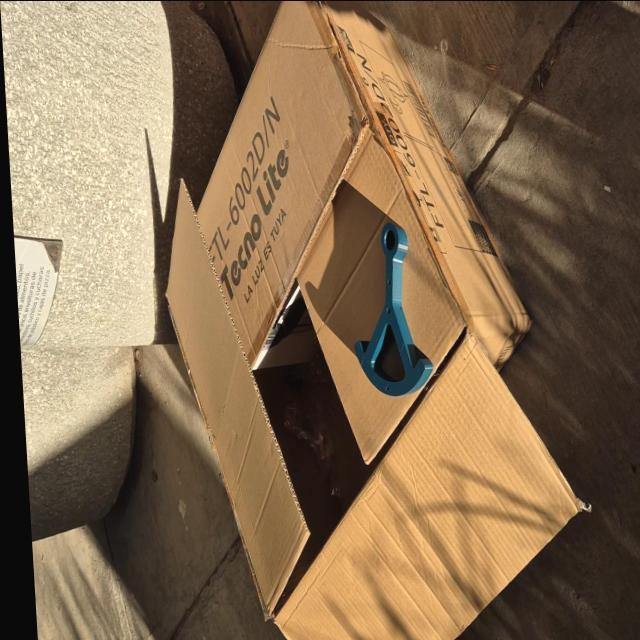haptic: (346, 220, 436, 397)
